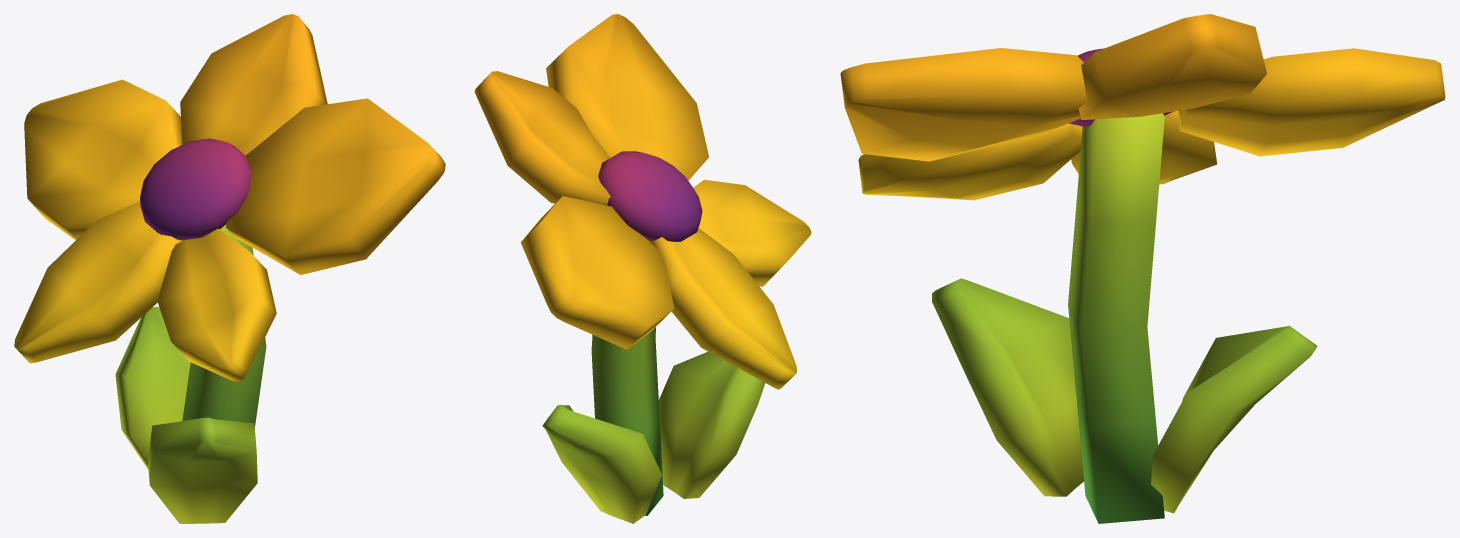
The model's file is flower_YellowPurple_small.fbx.
3 views of the same model, side by side, from view 1: azimuth 30°, elevation 25°; view 2: azimuth 150°, elevation 25°; view 3: azimuth 270°, elevation 25° (orthographic). The views are drawn at different scales.
Visible parts, largest first — view 1: flower_YellowPurple_small; view 2: flower_YellowPurple_small; view 3: flower_YellowPurple_small.
Boxes of the visible parts, x1,y1,x2,y2 form: flower_YellowPurple_small: (14, 14, 445, 523); flower_YellowPurple_small: (474, 14, 811, 523); flower_YellowPurple_small: (840, 14, 1445, 523).
Size of the model in its own units: 58.26 by 76.63 by 74.36.
